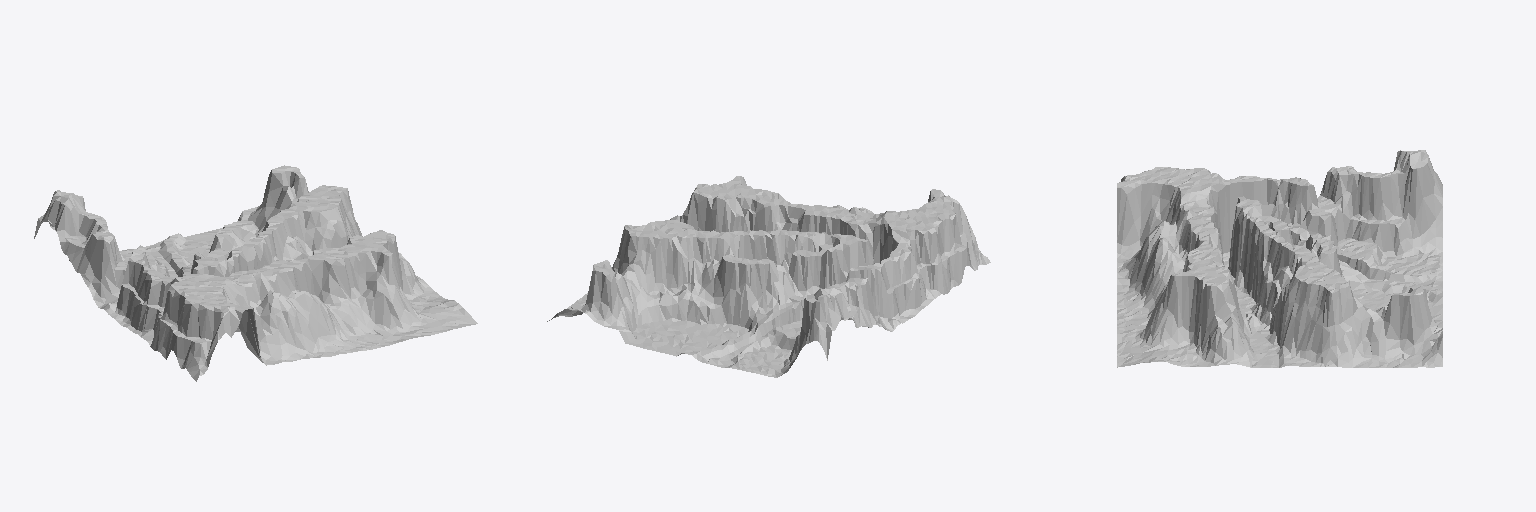
File: FallingRockZone.obj
3 views of the same model, side by side, from view 1: azimuth 30°, elevation 25°; view 2: azimuth 150°, elevation 25°; view 3: azimuth 270°, elevation 25° (orthographic).
Visible parts, largest first — view 1: 1.010; view 2: 1.010; view 3: 1.010.
Boxes of the visible parts, box(x1,y1,x2,y2) form: 1.010: box(34, 165, 477, 381); 1.010: box(547, 176, 990, 377); 1.010: box(1117, 150, 1442, 367).
Size of the model in its own units: 100 by 29.69 by 100.